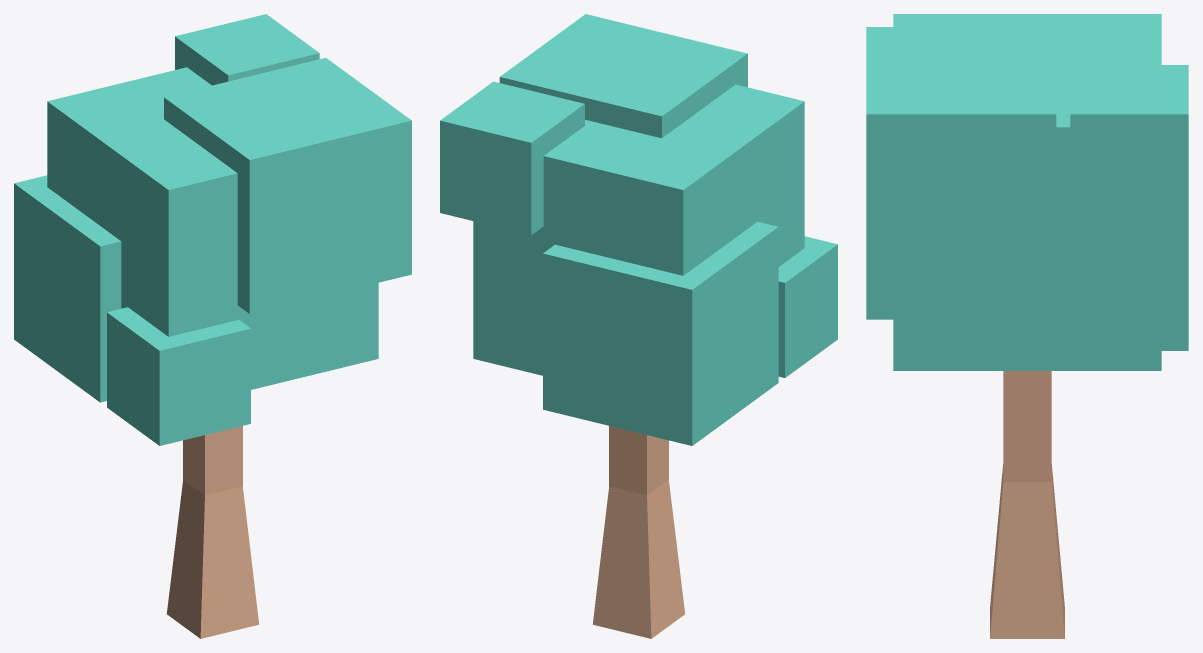
Rendered from tree_blocks.gltf.
3 renders of one model, left to right at view 1: azimuth 30°, elevation 25°; view 2: azimuth 150°, elevation 25°; view 3: azimuth 270°, elevation 25°, orthographic. The views are drawn at different scales.
Visible parts, largest first — view 1: tree_blocks; view 2: tree_blocks; view 3: tree_blocks.
Boxes of the visible parts, x1,y1,x2,y2 form: tree_blocks: (14,14,411,638); tree_blocks: (440,14,837,638); tree_blocks: (866,14,1188,638).
Size of the model in its own units: 0.6 by 1.19 by 0.6.
